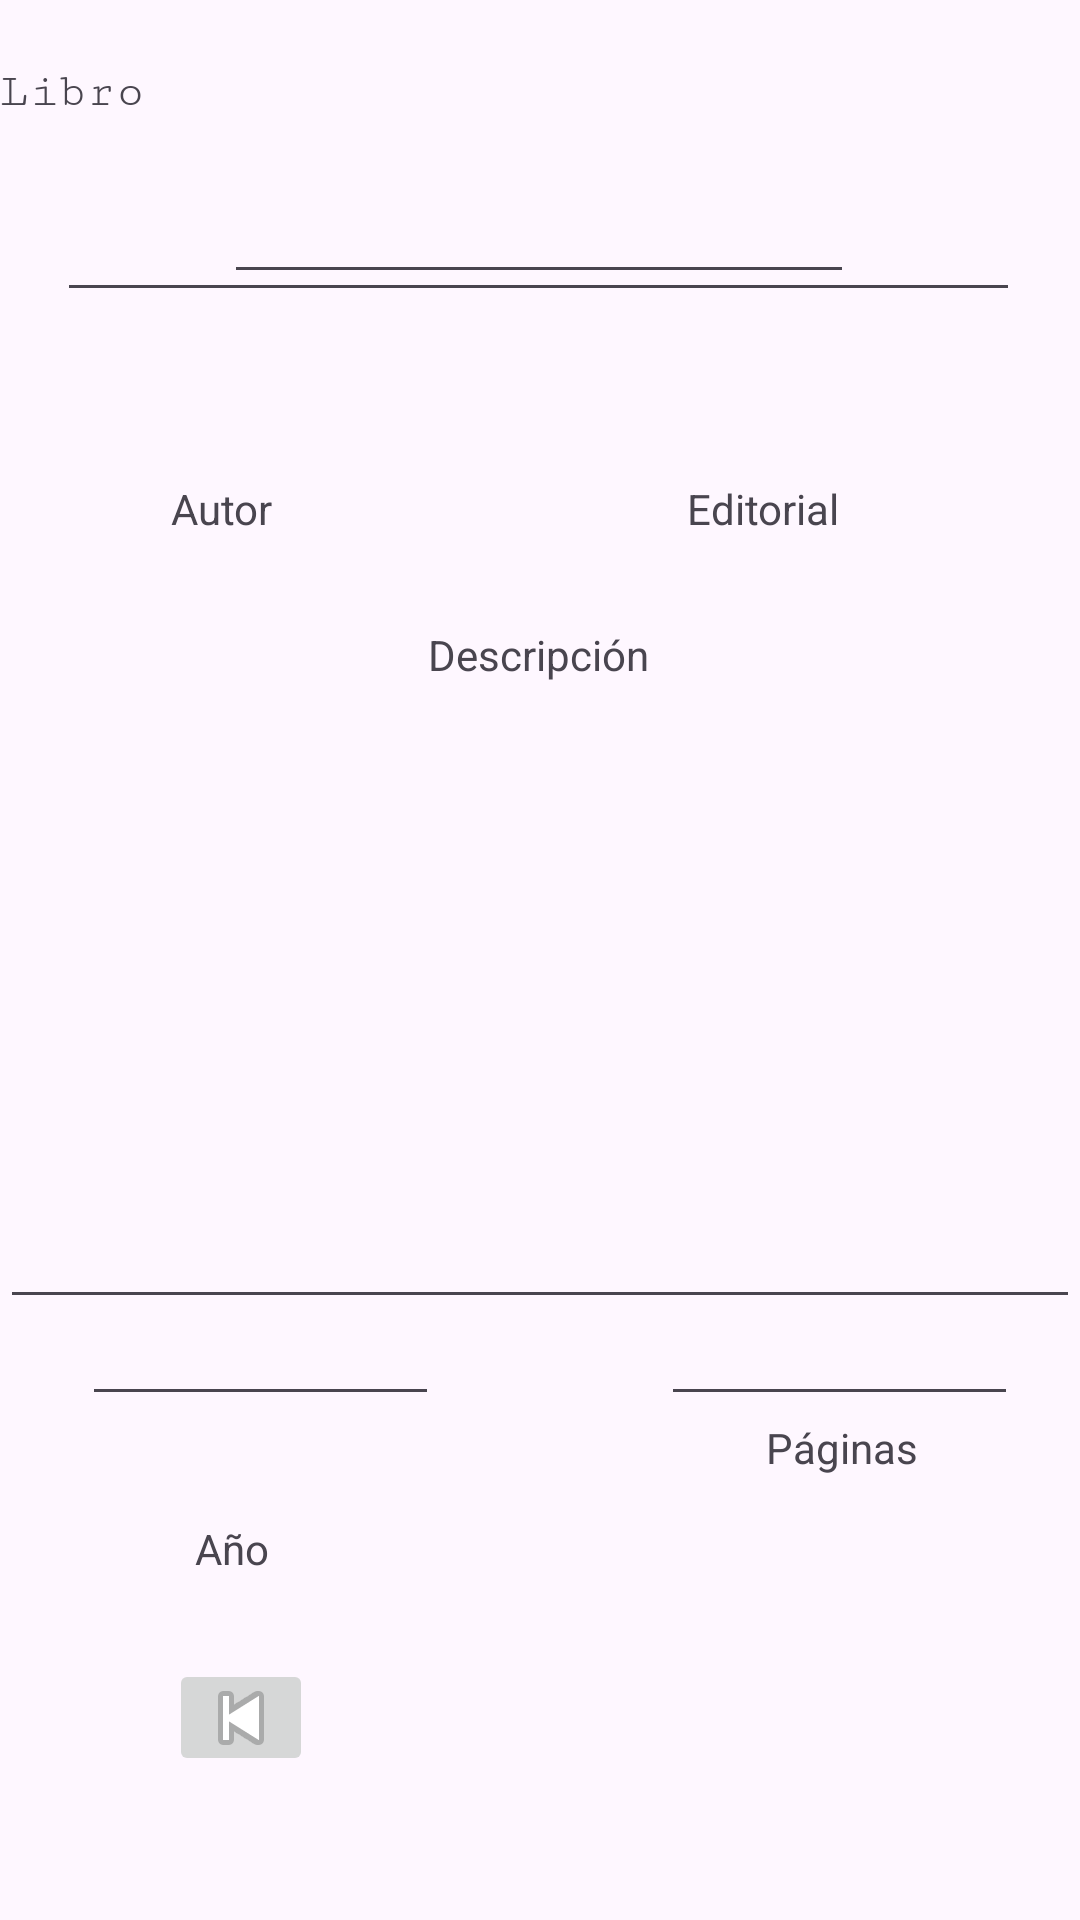

Screen size 1080w x 1920h. Icon name, then its center in pixels as point (x, y):
previous: point (241, 1717)
